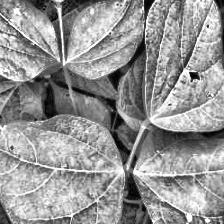ALS: (0, 116, 128, 224), (142, 0, 224, 132), (142, 130, 224, 224), (0, 0, 61, 81)
